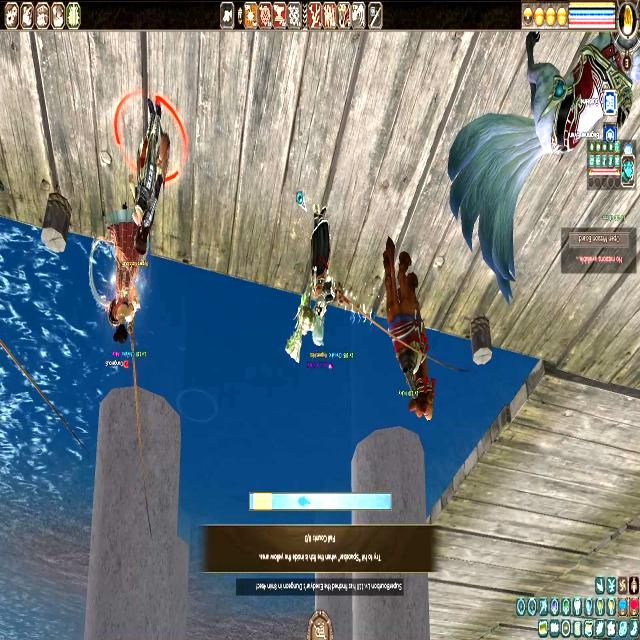fishes: (297, 496, 311, 508)
